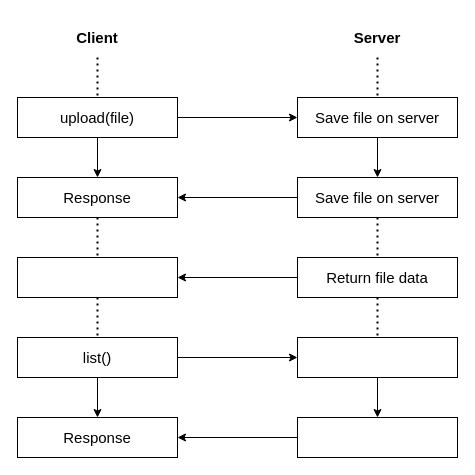
Image size: 475x475. Some labels were removed from this diagram. The shapes that lost their labels are listed below. From the top down, each one's box as (x1, y1, x2, y2) in pixels, then its label:
(16, 256, 178, 298): download(file)
(296, 336, 458, 378): Fetch list of files
(296, 416, 458, 458): "file1 file2 file.."
